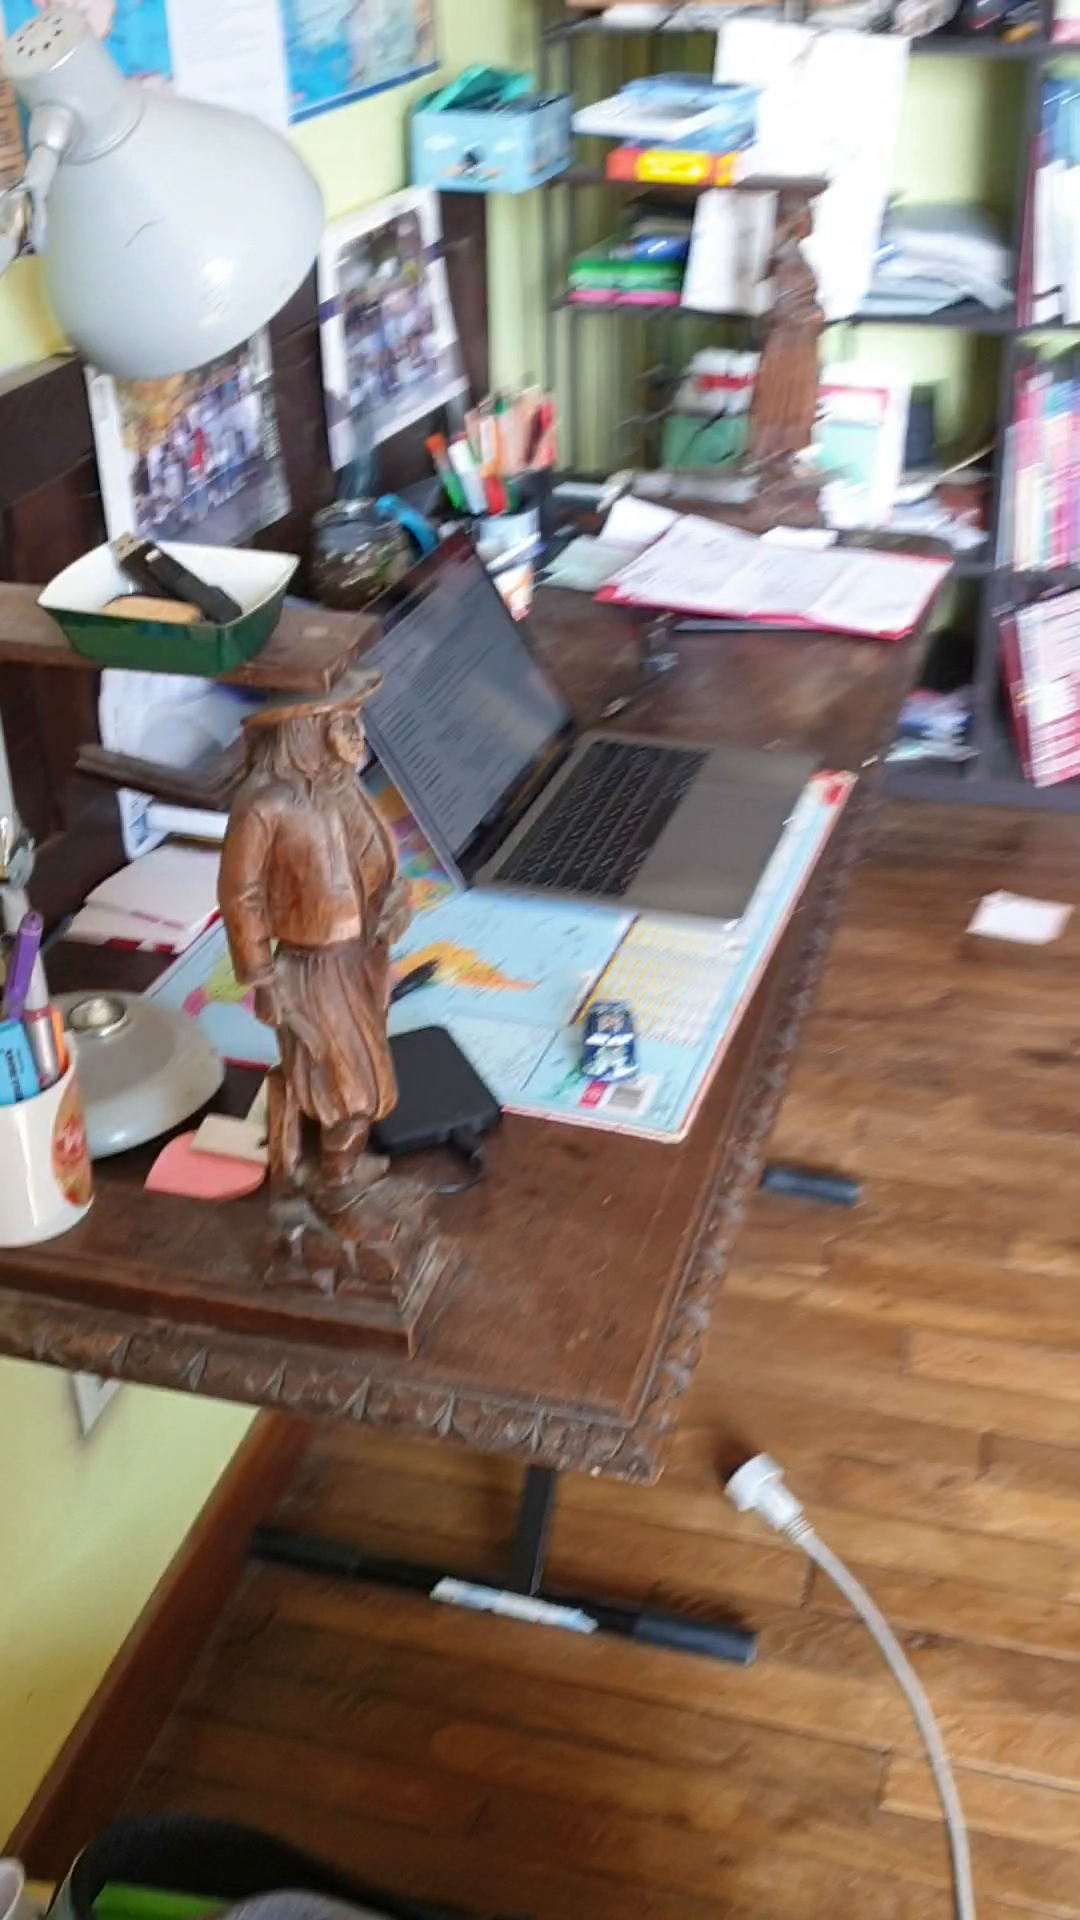cars: (578, 1000, 640, 1083)
